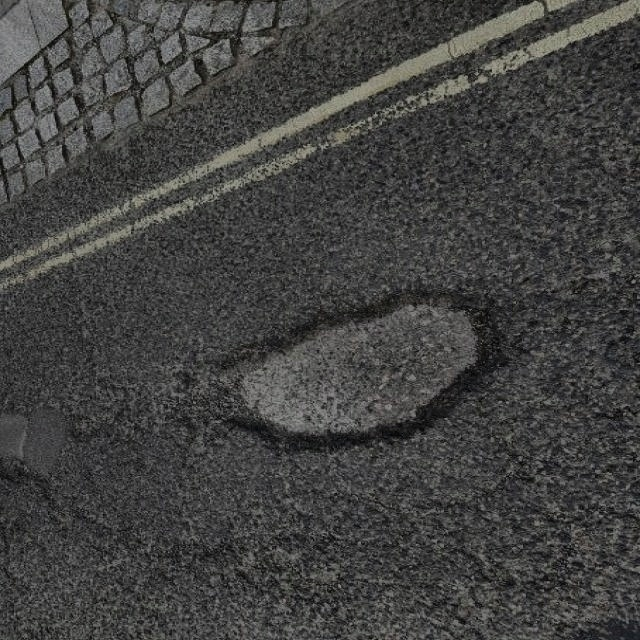Pothole: (184, 278, 516, 458)
